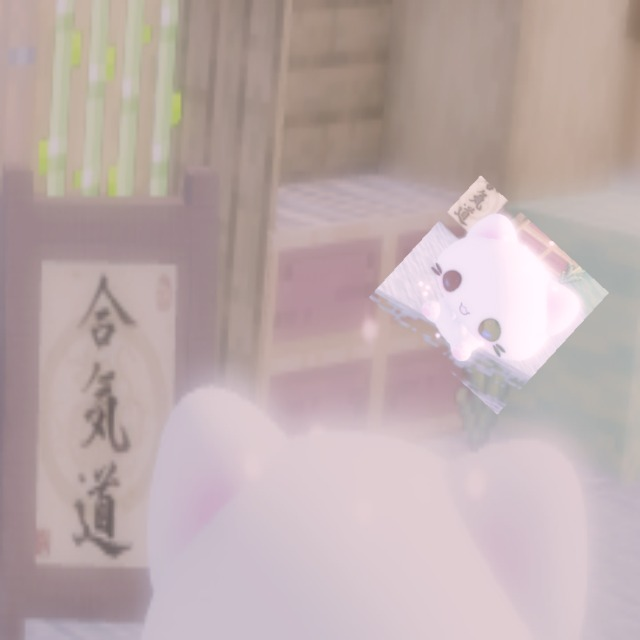urso_branco: (369, 175, 609, 415)
